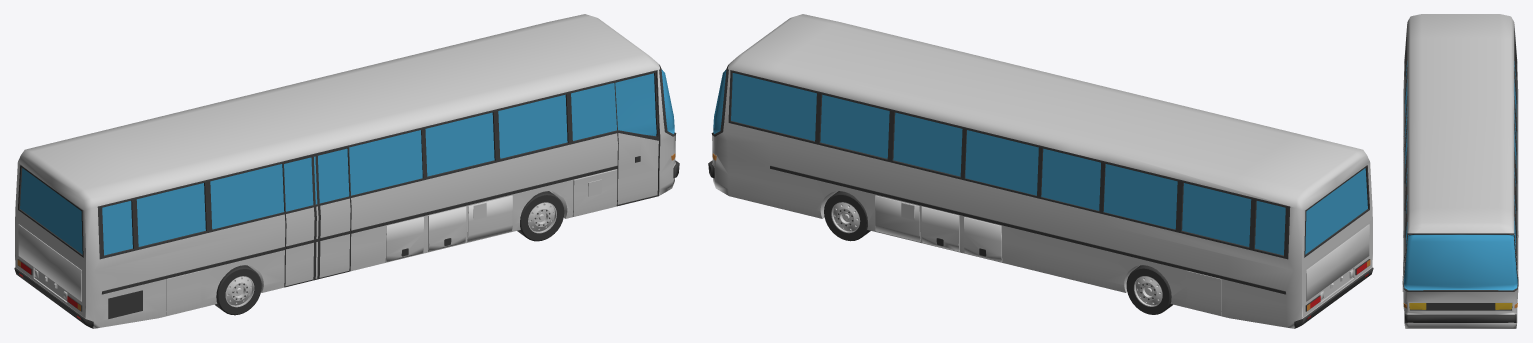
The model's file is BUS.fbx.
The picture shows the model from 3 angles, left to right: view 1: azimuth 30°, elevation 25°; view 2: azimuth 150°, elevation 25°; view 3: azimuth 270°, elevation 25°; orthographic projection. The views are drawn at different scales.
Parts seen in each view (by area): view 1: Bus_Body, wheelRR, wheelFR; view 2: Bus_Body, wheelLR, wheelFL; view 3: Bus_Body.
Boxes of the visible parts, bbox=[...] form: Bus_Body: bbox=[14, 14, 679, 328]; wheelRR: bbox=[215, 265, 261, 315]; wheelFR: bbox=[517, 191, 564, 241]; Bus_Body: bbox=[708, 14, 1373, 328]; wheelLR: bbox=[1126, 265, 1172, 314]; wheelFL: bbox=[824, 191, 870, 241]; Bus_Body: bbox=[1402, 14, 1518, 328].
Bounding box in the file's own units: 955 × 235 × 212.
